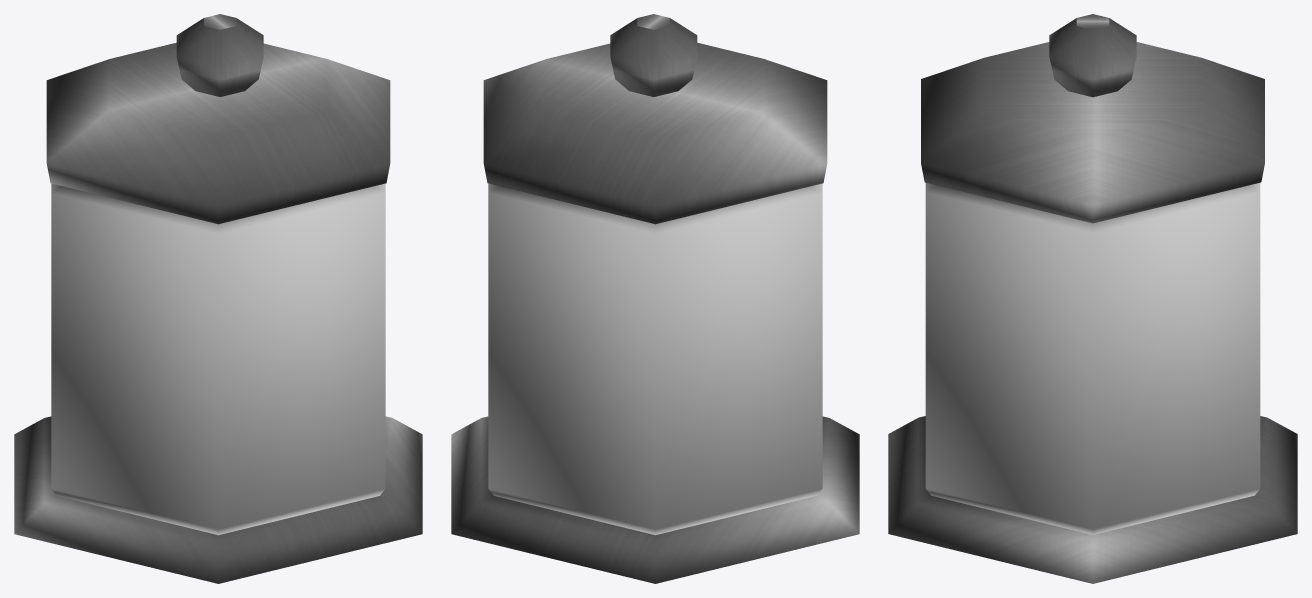
The model's file is Canister_C.FBX.
The picture shows the model from 3 angles, left to right: view 1: azimuth 30°, elevation 25°; view 2: azimuth 150°, elevation 25°; view 3: azimuth 270°, elevation 25°; orthographic projection.
Parts seen in each view (by area): view 1: Canister_C; view 2: Canister_C; view 3: Canister_C.
Part boxes in pixels (bbox=[...]): Canister_C: bbox=[14, 14, 422, 583]; Canister_C: bbox=[451, 14, 859, 583]; Canister_C: bbox=[888, 14, 1297, 583].
Size of the model in its own units: 32.54 by 35.15 by 28.18.
